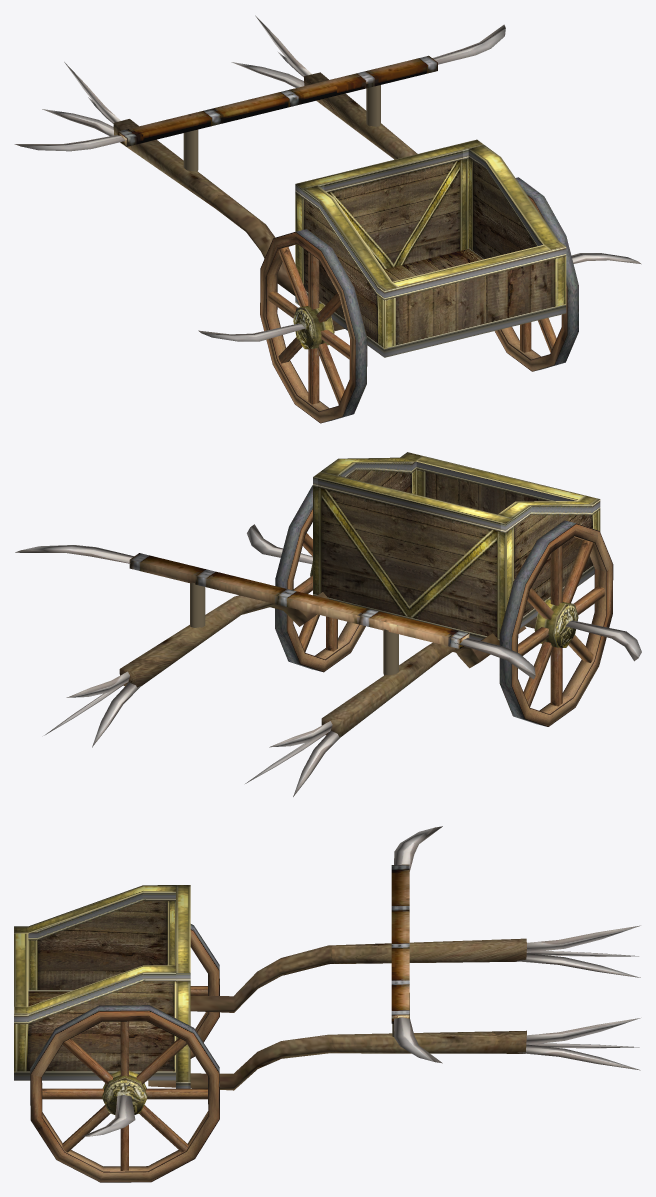
File: pers_chariot_e.glb
3 renders of one model, top to bottom at view 1: azimuth 30°, elevation 25°; view 2: azimuth 150°, elevation 25°; view 3: azimuth 270°, elevation 25°, orthographic. The views are drawn at different scales.
Bounding box in the file's own units: 11.23 × 4.41 × 12.57.
Materials: 1 (1 with a texture image).
